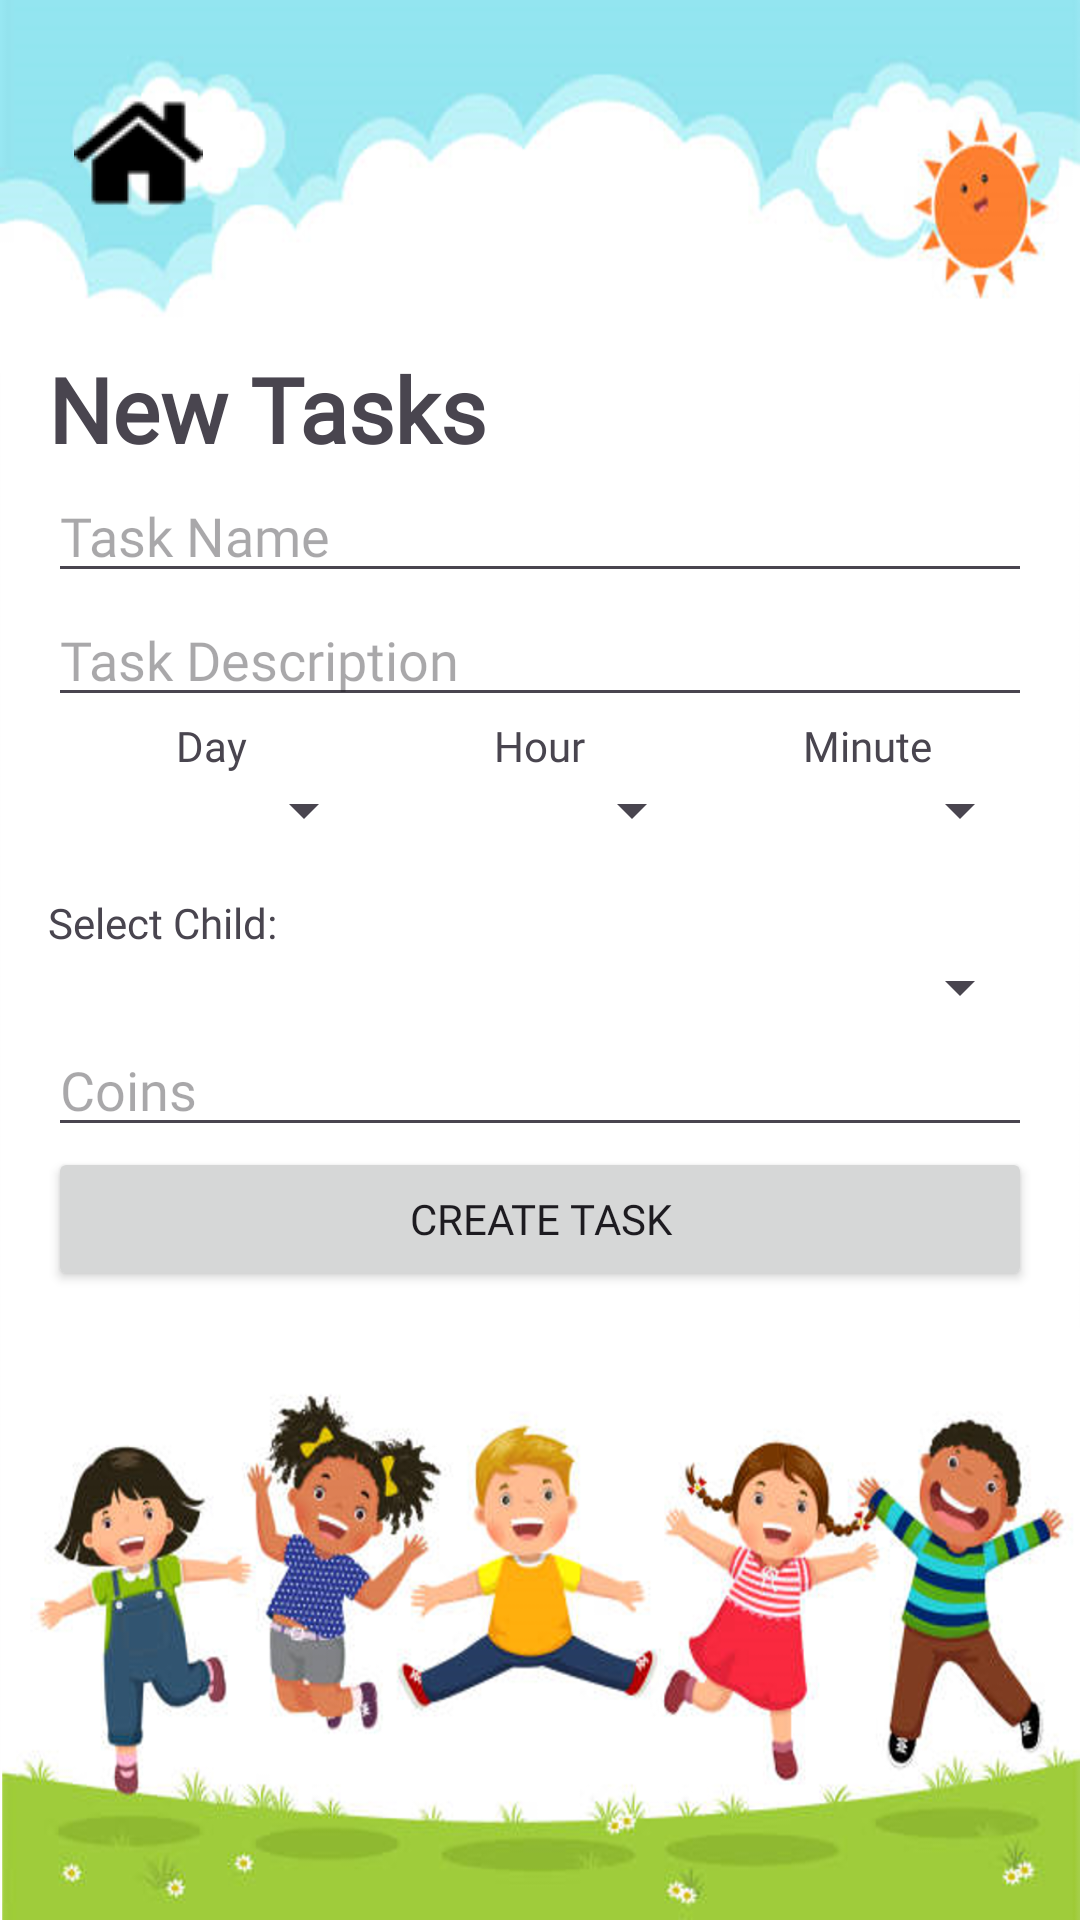

Icons on this 1080 × 1920 Android screen, each with the point to tap as [x,y]:
home: [138,153]
